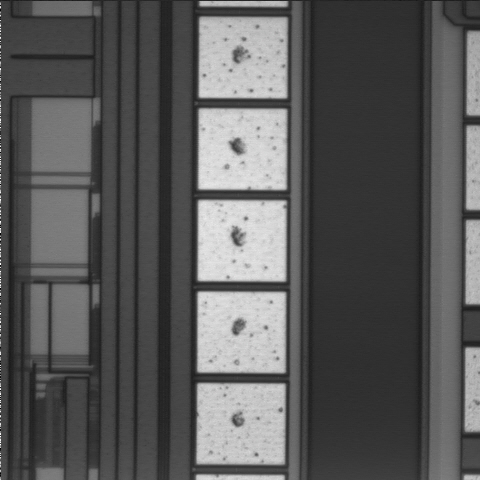pad: (198, 200, 286, 281), (199, 109, 286, 190), (198, 292, 285, 373), (197, 384, 285, 464), (199, 18, 286, 98)
